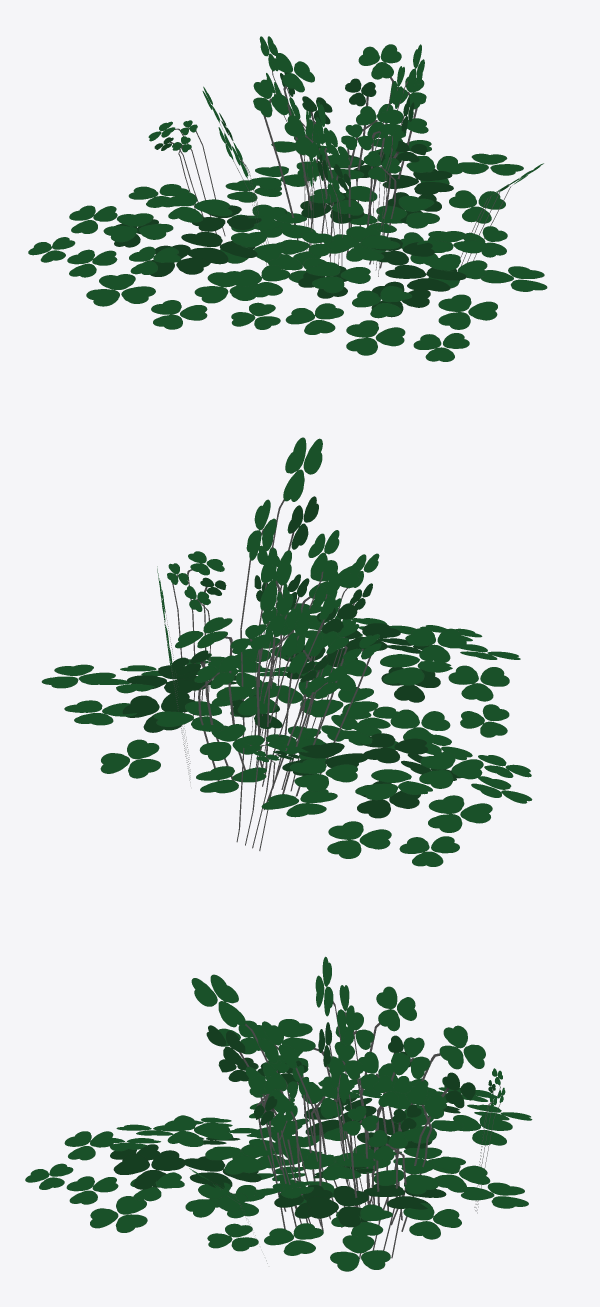
Rendered from PT_Clover_01.fbx.
3 renders of one model, top to bottom at view 1: azimuth 30°, elevation 25°; view 2: azimuth 150°, elevation 25°; view 3: azimuth 270°, elevation 25°, orthographic. The views are drawn at different scales.
Visible parts, largest first — view 1: PT_Clover_01_LOD0; view 2: PT_Clover_01_LOD0; view 3: PT_Clover_01_LOD0.
Boxes of the visible parts, bbox=[...] form: PT_Clover_01_LOD0: bbox=[28, 36, 547, 361]; PT_Clover_01_LOD0: bbox=[41, 437, 532, 866]; PT_Clover_01_LOD0: bbox=[25, 956, 532, 1271].
Size of what is drawn, in the model's own units: 151 by 80.81 by 142.
